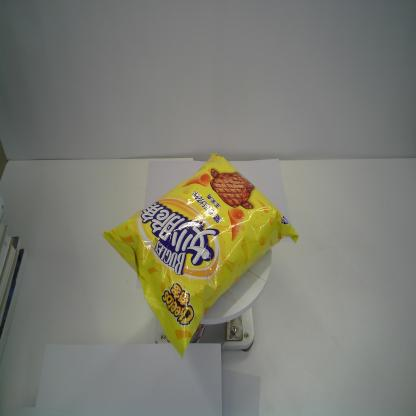Puffed Food: (95, 151, 299, 360)
